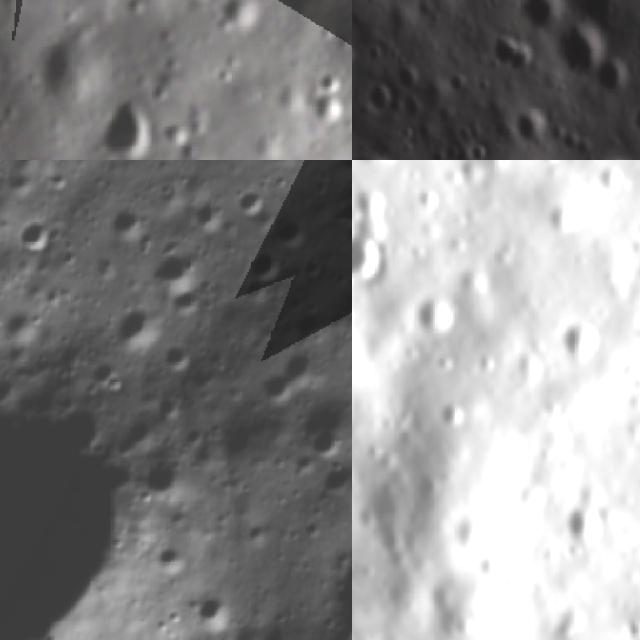crater: (0, 298, 215, 640), (146, 228, 224, 307), (313, 486, 352, 640), (104, 289, 178, 365), (28, 36, 109, 105), (88, 98, 160, 160), (547, 306, 614, 372), (352, 214, 401, 300), (135, 441, 197, 504), (273, 335, 337, 396), (4, 200, 66, 260), (411, 285, 469, 343), (268, 199, 327, 256), (187, 582, 245, 639), (97, 194, 152, 250), (556, 23, 611, 77), (153, 332, 206, 386), (250, 364, 304, 414), (243, 240, 296, 289), (303, 415, 352, 467), (313, 448, 352, 508), (229, 177, 278, 223), (305, 90, 352, 133), (436, 393, 476, 439), (216, 0, 267, 35), (517, 0, 568, 34), (594, 57, 633, 101), (304, 65, 351, 100), (360, 81, 398, 119), (156, 116, 193, 154), (616, 605, 640, 640), (447, 72, 471, 96), (631, 104, 640, 140)
